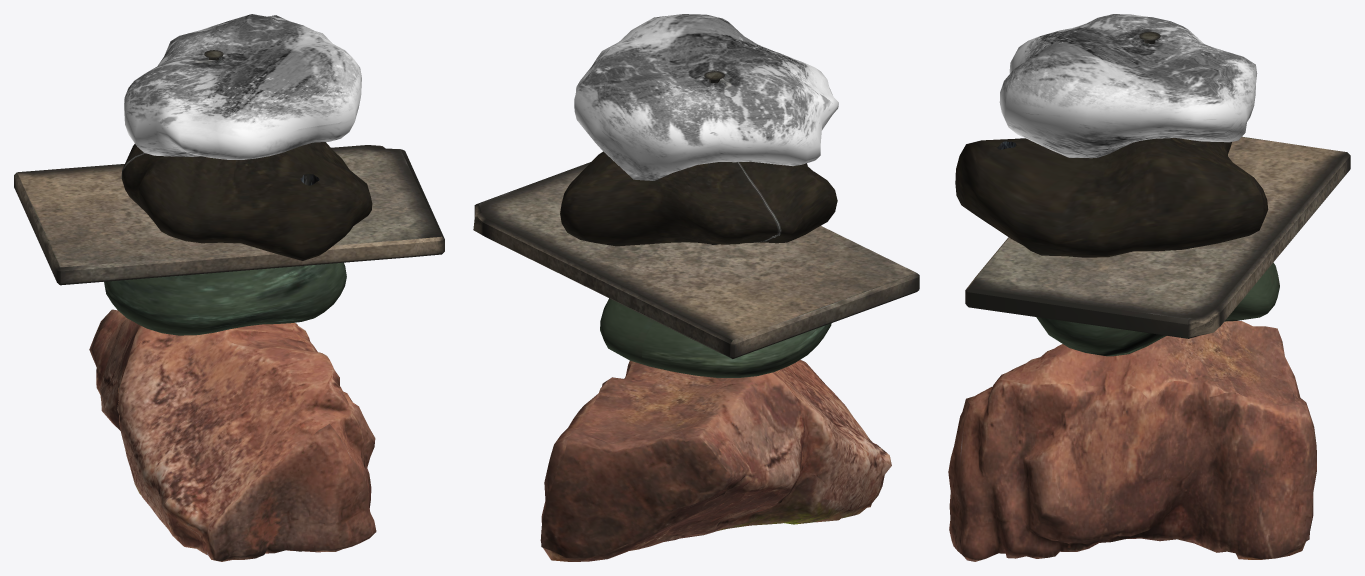
Rendered from InteractableStatue.glb.
3 views of the same model, side by side, from view 1: azimuth 30°, elevation 25°; view 2: azimuth 150°, elevation 25°; view 3: azimuth 270°, elevation 25° (orthographic). The views are drawn at different scales.
Parts seen in each view (by area): view 1: Stone_01_Base:polySurface1; view 2: Stone_01_Base:polySurface1; view 3: Stone_01_Base:polySurface1.
Boxes of the visible parts, box(x1,y1,x2,y2) form: Stone_01_Base:polySurface1: box(14, 14, 444, 561); Stone_01_Base:polySurface1: box(473, 14, 919, 561); Stone_01_Base:polySurface1: box(948, 14, 1350, 561).
Size of the model in its own units: 0.2652 by 0.2999 by 0.2191.
Materials: 1 (1 with a texture image).
